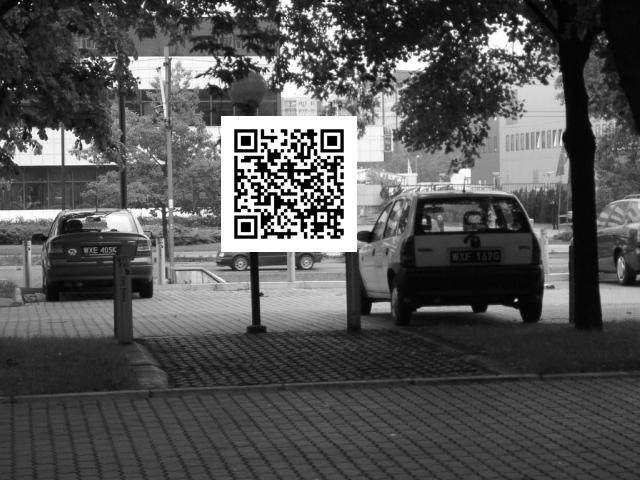qr_code: (222, 115, 356, 251)
